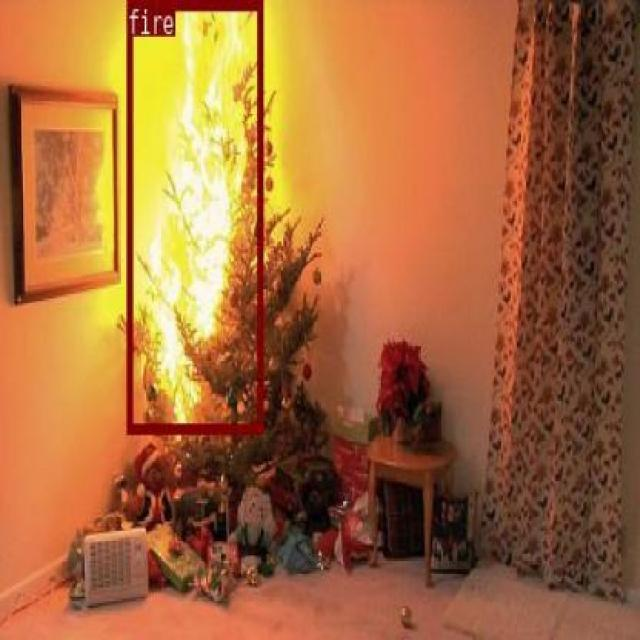Fire: (125, 0, 261, 431)
